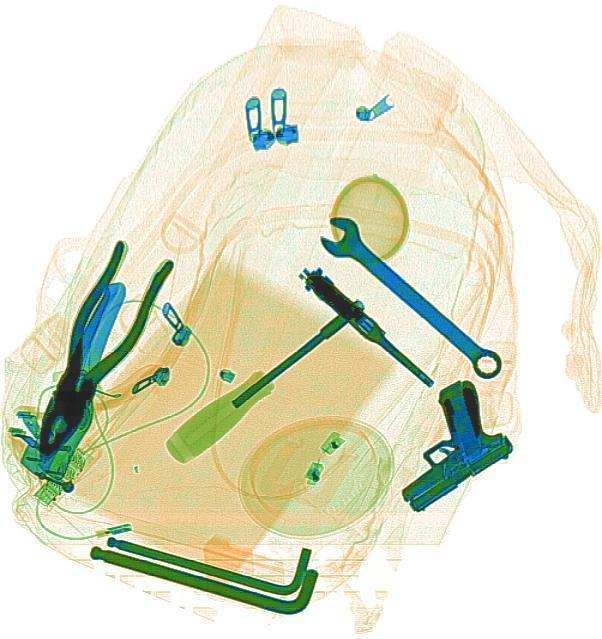Gun: (361, 371, 520, 517)
Pliers: (16, 237, 173, 470)
Wrench: (310, 207, 510, 389)
